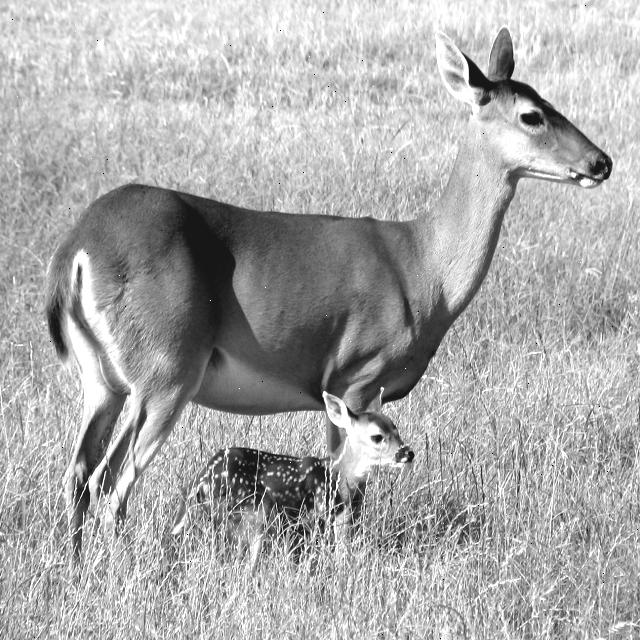deer: (45, 16, 618, 407), (200, 384, 421, 546)
